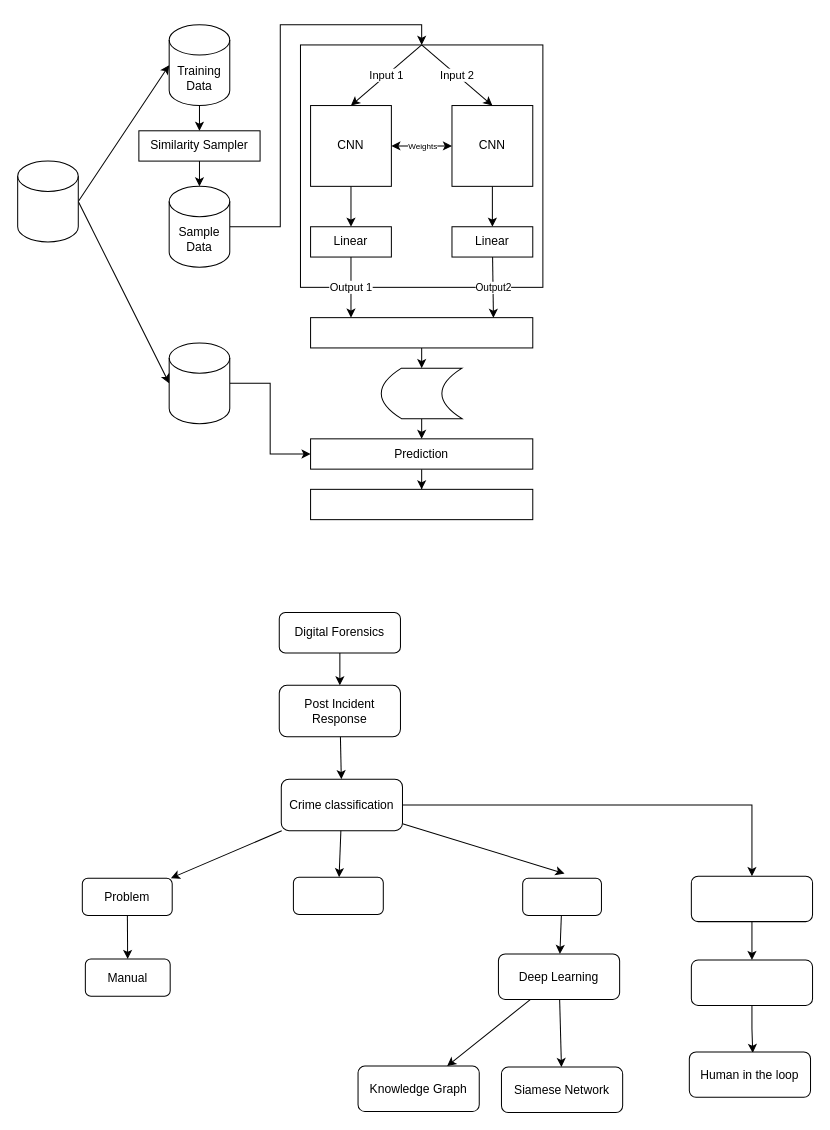
This 830x1130 diagram has some shape labels left out. The shapes that lost their labels are listed below. From the top down, each one's box as (x1, y1, x2, y2) in pixels, then its label:
(17, 160, 78, 242): Graph Embedings
(310, 317, 533, 348): Binary Cross Entrophy(BCE) Loss
(168, 342, 230, 424): Test Data
(380, 367, 462, 419): Model
(310, 488, 533, 520): Evaluation
(292, 876, 383, 915): Existing
(522, 877, 601, 916): Solution
(690, 875, 813, 922): Future
(690, 959, 813, 1005): Incremental Learning
